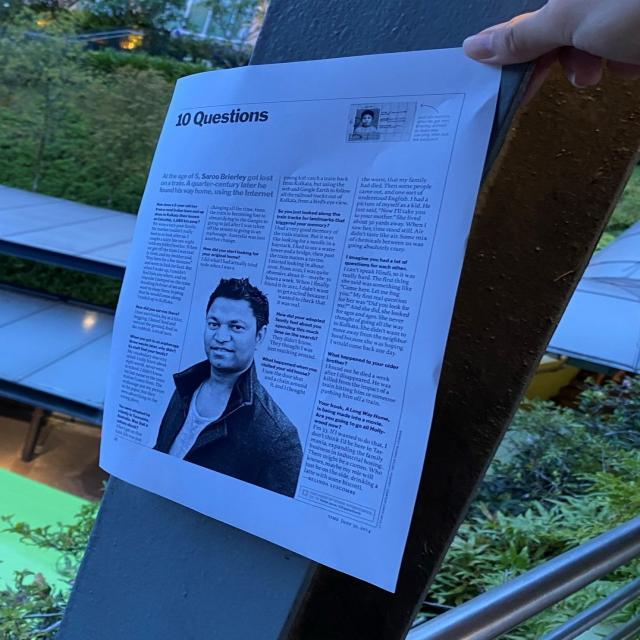document: (104, 49, 500, 590)
